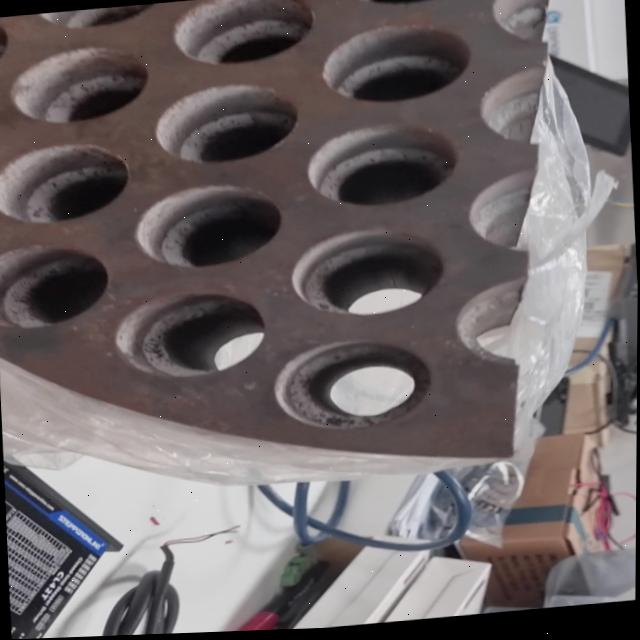Hole: (272, 335, 437, 437), (290, 225, 449, 324), (304, 120, 463, 214), (114, 288, 270, 383), (133, 179, 287, 275), (319, 22, 476, 110), (153, 80, 303, 169), (8, 41, 154, 127), (0, 139, 133, 228), (0, 239, 114, 330), (171, 0, 318, 70)
